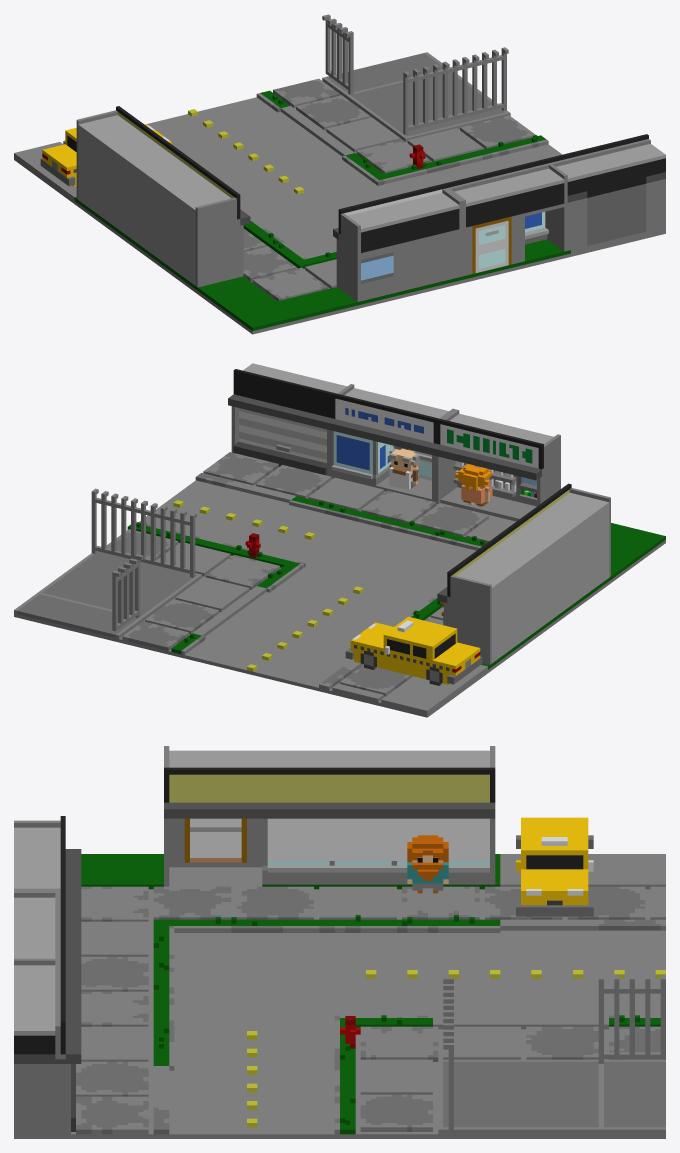
The model's file is scene_store5.obj.
The picture shows the model from 3 angles, top to bottom: view 1: azimuth 30°, elevation 25°; view 2: azimuth 150°, elevation 25°; view 3: azimuth 270°, elevation 25°; orthographic projection. The views are drawn at different scales.
Size of the model in its own units: 12.6 by 2.6 by 12.6.
Materials: 1 (1 with a texture image).
